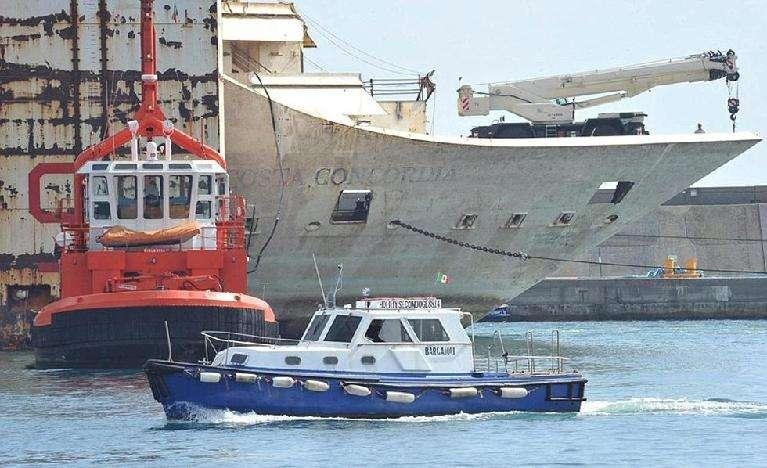otherboat: (19, 87, 284, 376), (150, 287, 573, 412)
